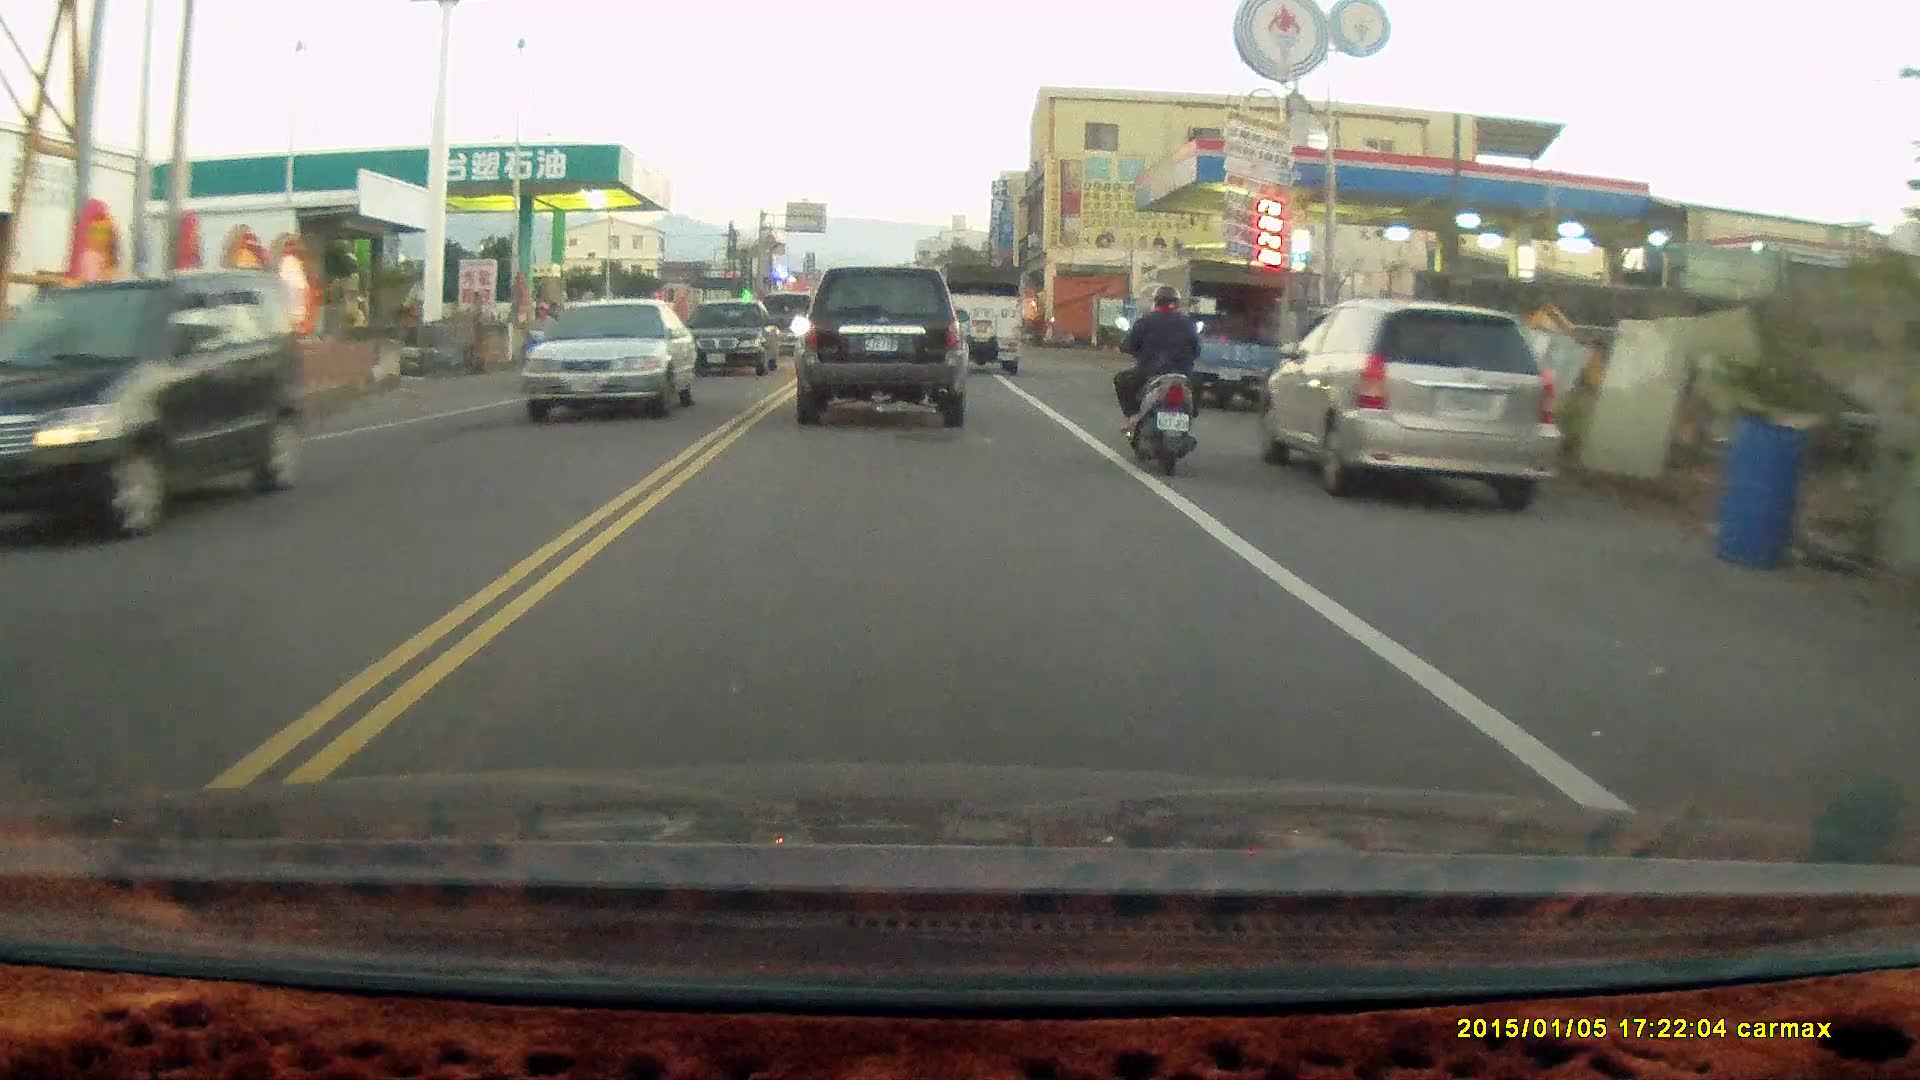rider: (1109, 283, 1206, 474)
vehicle: (3, 271, 319, 554), (1264, 296, 1559, 514), (795, 264, 970, 427), (518, 295, 700, 424), (1132, 257, 1285, 406), (937, 259, 1021, 374), (683, 297, 780, 373)
